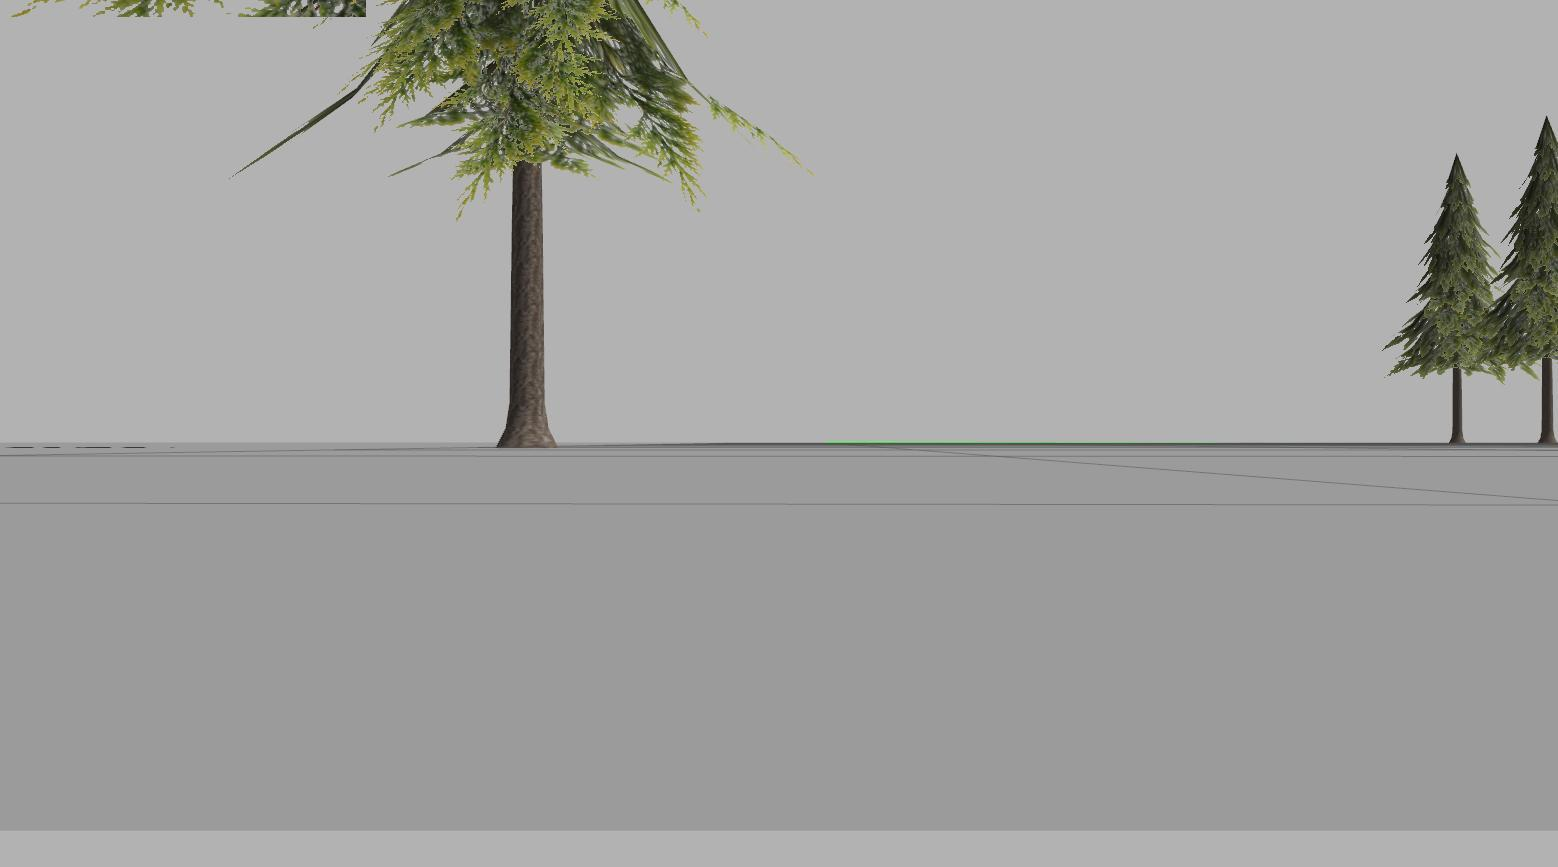tree_gazebo: (335, 0, 779, 446), (1387, 155, 1507, 443), (1488, 119, 1558, 443)
